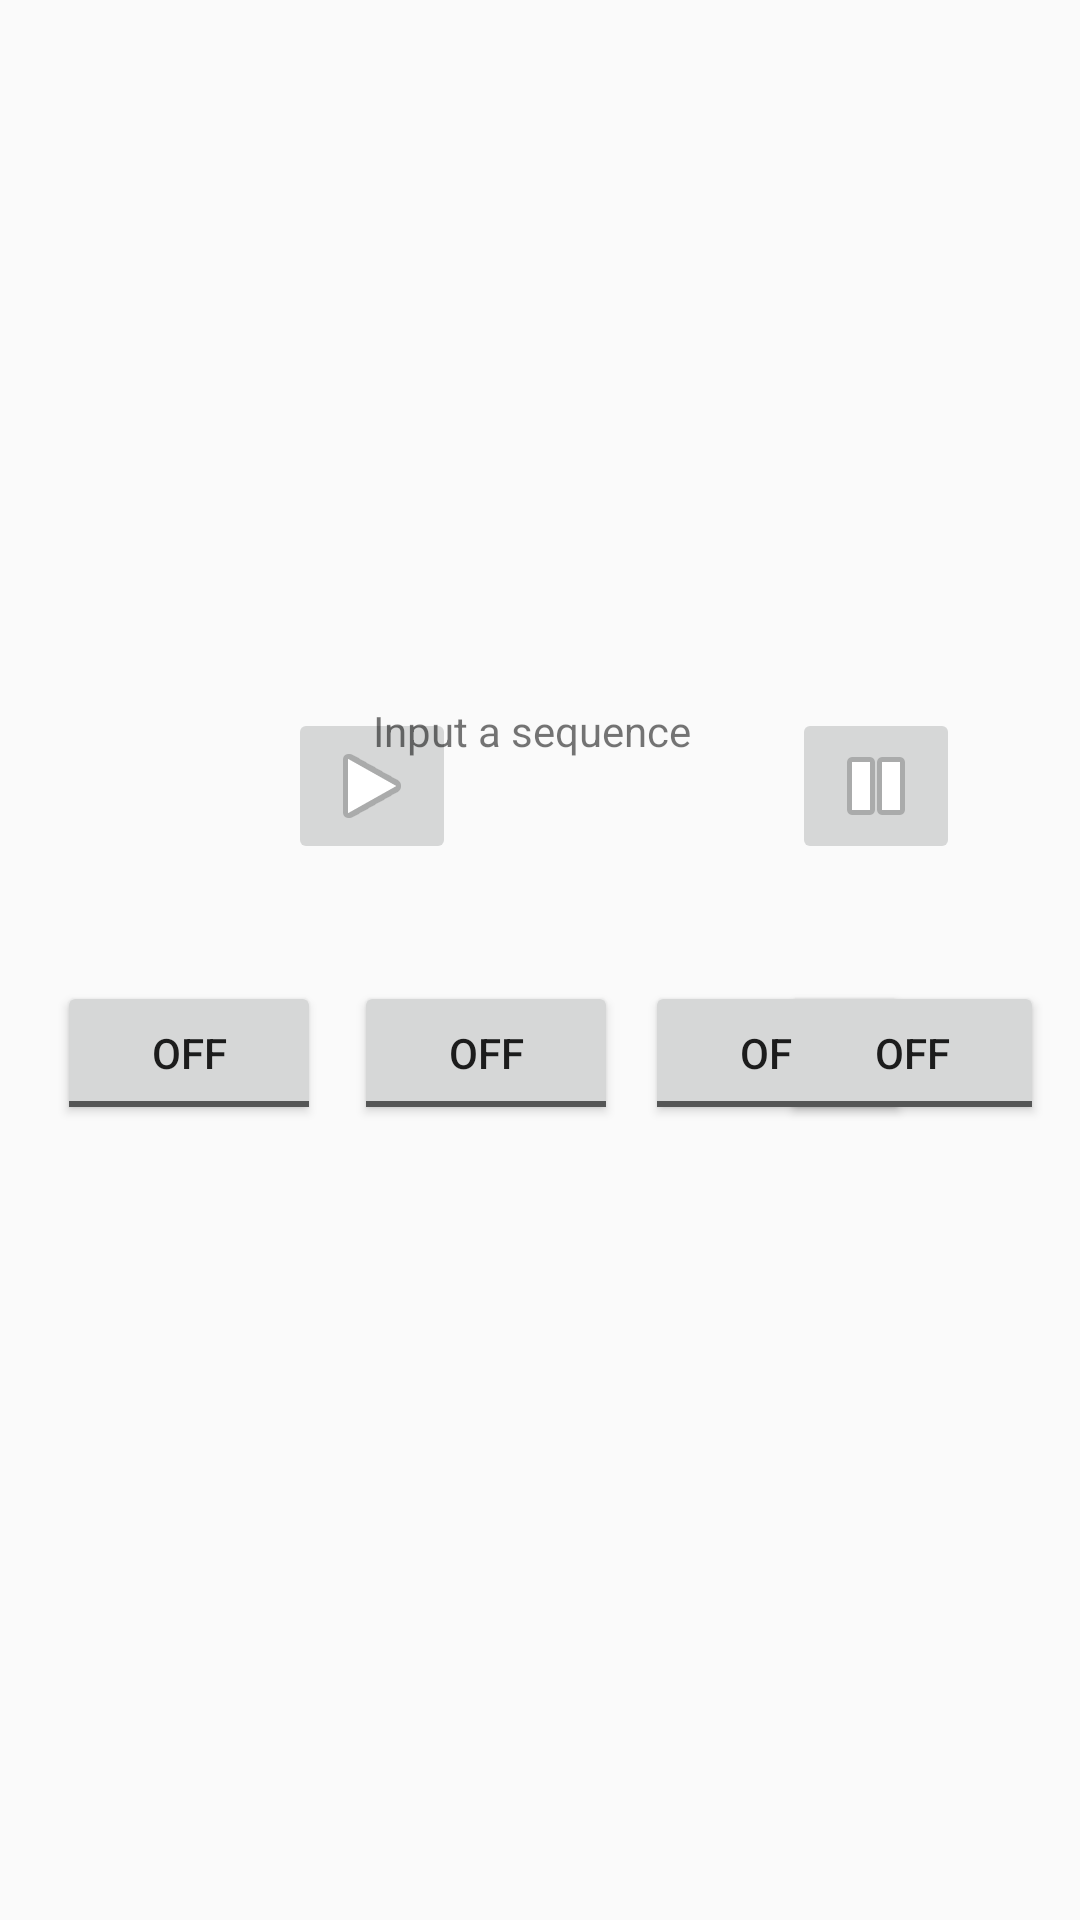

Locate icon controls on the screen. Image size 1080px×1920px, boxes as (x1, y1, x2, y2).
pause: (804, 726, 948, 846)
